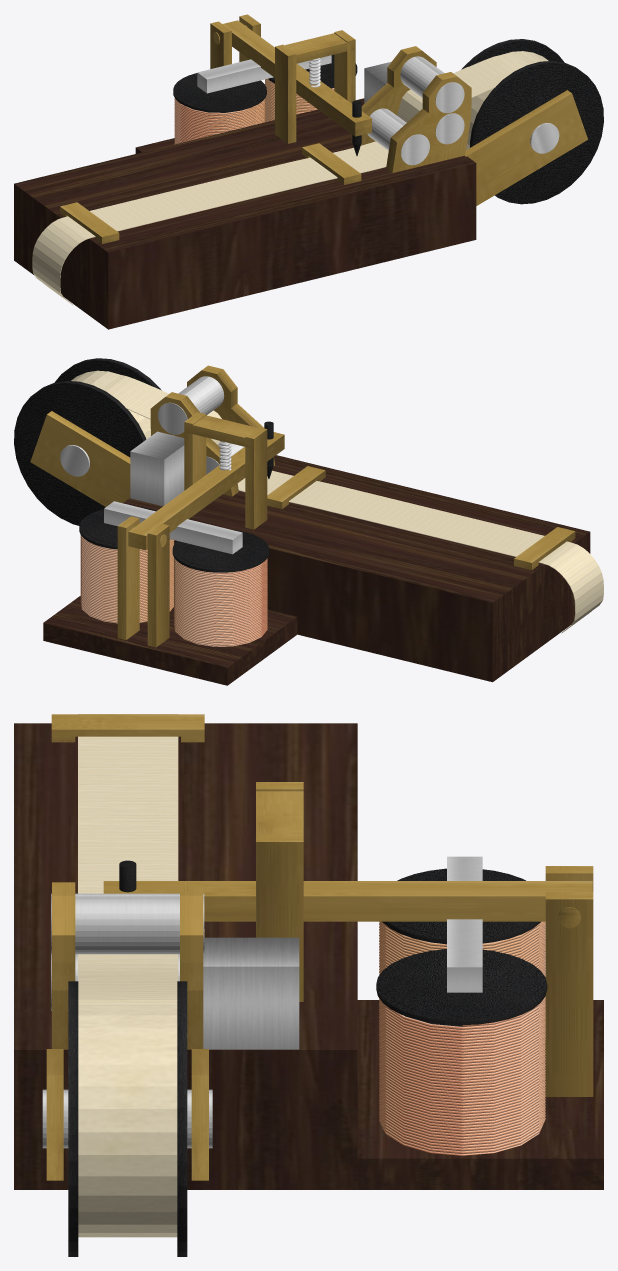
File: receiver.fbx
The picture shows the model from 3 angles, top to bottom: view 1: azimuth 30°, elevation 25°; view 2: azimuth 150°, elevation 25°; view 3: azimuth 270°, elevation 25°; orthographic projection. The views are drawn at different scales.
Parts seen in each view (by area): view 1: Cube, 平面, 円柱.001, 立方体.002, 立方体.003, 立方体.004, 立方体.006, 円柱.009, 円柱.008, 円柱.005, 立方体.008, 円柱.003 (+8 smaller); view 2: Cube, 平面, 円柱.009, 円柱.001, Cube.001, 立方体.005, 立方体.002, 立方体.004, 立方体.006, 立方体.009, 円柱.008, 立方体.003 (+7 smaller); view 3: Cube, 円柱.009, 円柱, 平面, Cube.001, 立方体.004, 円柱.008, 立方体.009, 立方体.005, 立方体.003, 円柱.005, 円柱.001 (+6 smaller).
Part boxes in pixels (left/top/right/bottom): Cube: left=14, top=98, right=476, bottom=329; 平面: left=32, top=55, right=519, bottom=305; 円柱.001: left=461, top=39, right=603, bottom=204; 立方体.002: left=464, top=90, right=587, bottom=205; 立方体.003: left=351, top=46, right=471, bottom=172; 立方体.004: left=223, top=20, right=371, bottom=136; 立方体.006: left=275, top=30, right=355, bottom=143; 円柱.009: left=174, top=78, right=334, bottom=144; 円柱.008: left=173, top=54, right=357, bottom=112; 円柱.005: left=400, top=56, right=464, bottom=113; 立方体.008: left=197, top=55, right=331, bottom=93; 円柱.003: left=367, top=108, right=429, bottom=165; Cube: left=123, top=455, right=590, bottom=682; 平面: left=101, top=375, right=603, bottom=633; 円柱.009: left=80, top=535, right=267, bottom=646; 円柱.001: left=14, top=358, right=161, bottom=525; Cube.001: left=43, top=596, right=297, bottom=685; 立方体.005: left=117, top=516, right=169, bottom=647; 立方体.002: left=30, top=411, right=130, bottom=506; 立方体.004: left=128, top=432, right=284, bottom=550; 立方体.006: left=184, top=412, right=267, bottom=529; 立方体.009: left=130, top=431, right=184, bottom=506; 円柱.008: left=79, top=507, right=269, bottom=572; 立方体.003: left=150, top=365, right=274, bottom=496; Cube: left=14, top=723, right=357, bottom=1189; 円柱.009: left=379, top=921, right=545, bottom=1155; 円柱: left=78, top=1005, right=177, bottom=1237; 平面: left=78, top=714, right=178, bottom=1005; Cube.001: left=353, top=1000, right=603, bottom=1189; 立方体.004: left=103, top=881, right=592, bottom=921; 円柱.008: left=376, top=868, right=547, bottom=1026; 立方体.009: left=203, top=937, right=299, bottom=1049; 立方体.005: left=545, top=866, right=593, bottom=1096; 立方体.003: left=52, top=882, right=203, bottom=1049; 円柱.005: left=51, top=893, right=204, bottom=954; 円柱.001: left=68, top=981, right=187, bottom=1256.
Bounding box in the file's own units: 14.86 × 4.32 × 7.7.
Materials: 7 (7 with a texture image).
